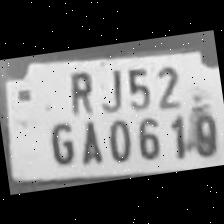0: (100, 111, 134, 164)
1: (160, 108, 192, 160)
2: (148, 60, 184, 108)
5: (120, 62, 154, 112)
6: (130, 114, 164, 162)
9: (183, 98, 221, 159)
A: (72, 113, 106, 166)
G: (44, 116, 80, 167)
J: (94, 63, 125, 111)
R: (60, 65, 97, 116)
